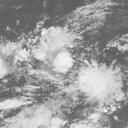cyclone: (19, 26, 76, 83), (77, 60, 124, 110)
